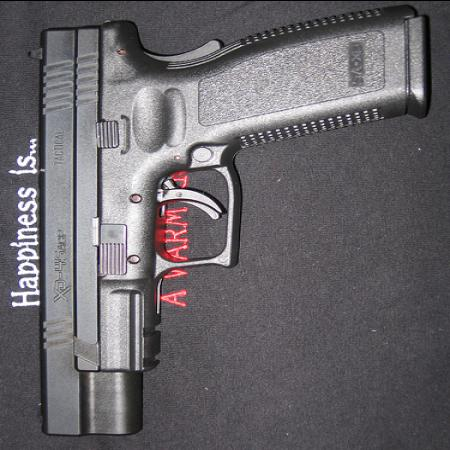Pistol: (25, 6, 430, 436)
